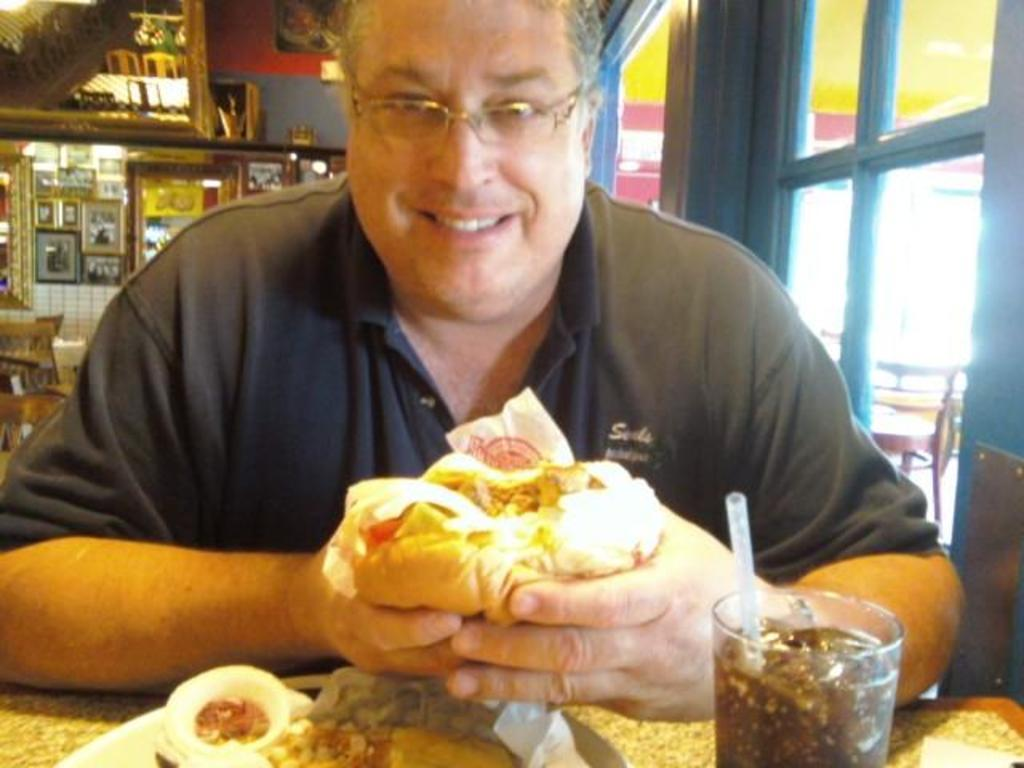Pessoa: (0, 0, 960, 718)
